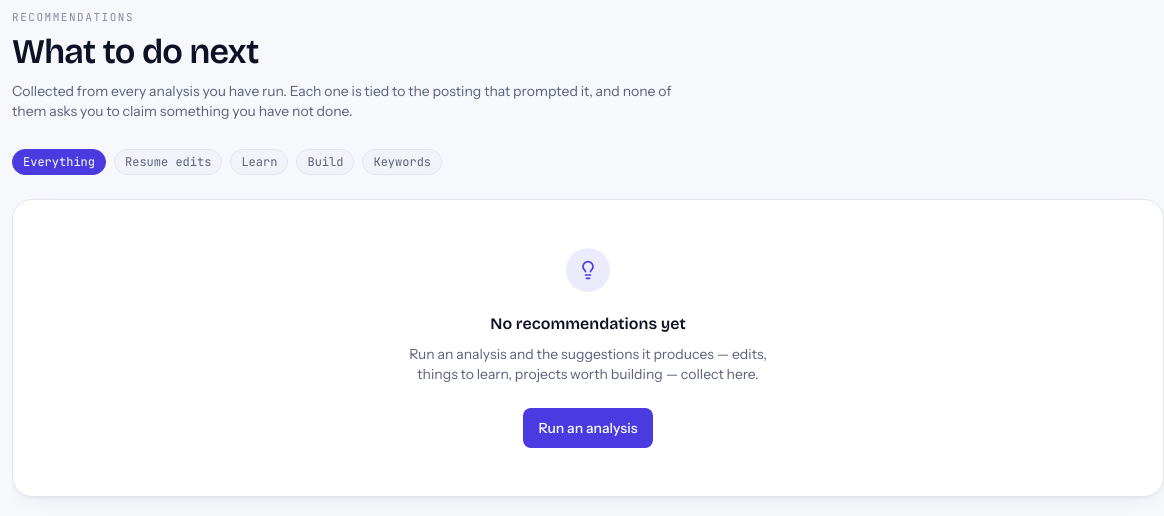
Scenario: Recommendations › explains an empty list differently once a filter is on
Check: the heading "No recommendations yet" is shown, box [490, 312, 686, 336]
What coordinates should you click on to do the following:
click the button "Keywords"
I would click on:
 (402, 162)
Its box is [362, 149, 442, 175].
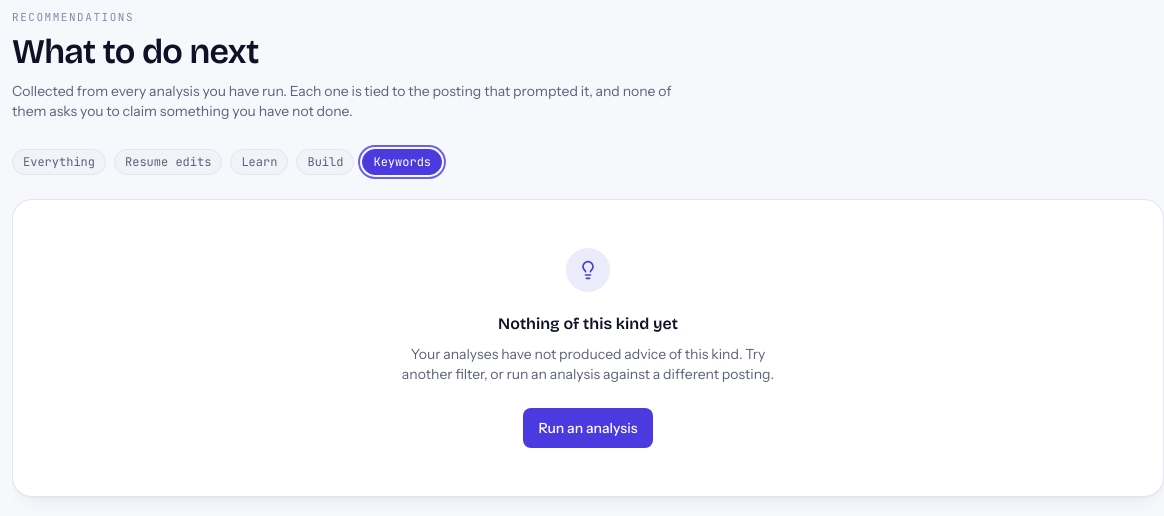
Check: the heading "Nothing of this kind yet" is shown, box [498, 312, 678, 336]
Check: the heading "No recommendations yet" is gone
